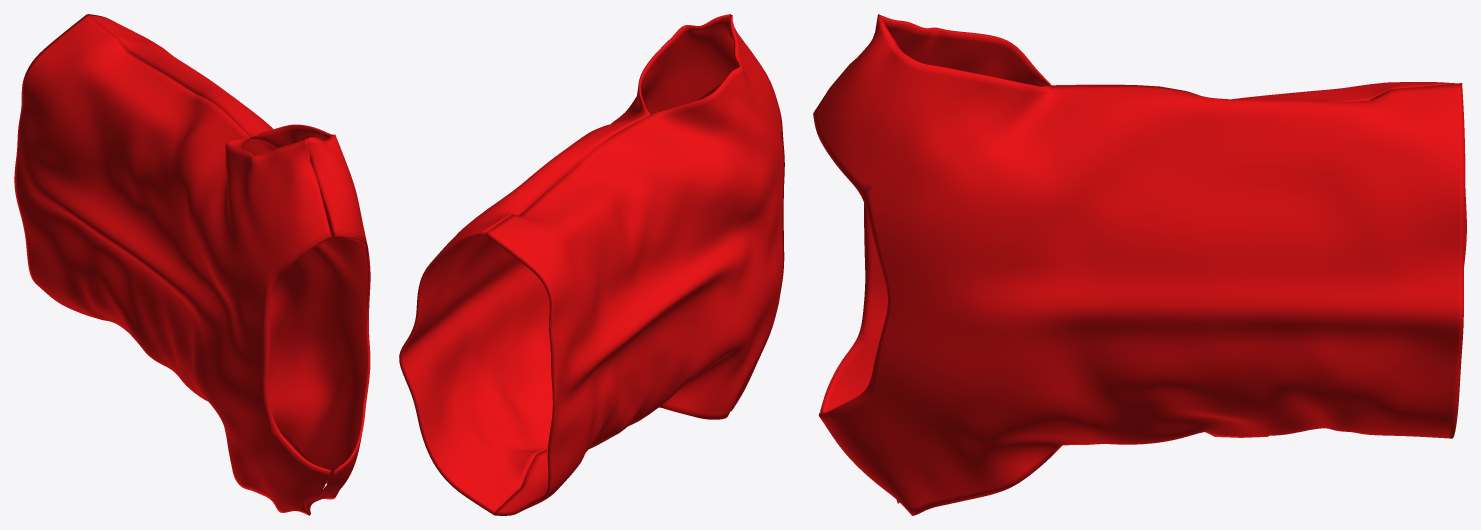
The model's file is en54CMboy66CM_TShirtModel.glb.
The picture shows the model from 3 angles, left to right: view 1: azimuth 30°, elevation 25°; view 2: azimuth 150°, elevation 25°; view 3: azimuth 270°, elevation 25°; orthographic projection. The views are drawn at different scales.
Visible parts, largest first — view 1: Plane; view 2: Plane; view 3: Plane.
Part boxes in pixels (box(x1,y1,x2,y2)): Plane: box(14, 14, 370, 515); Plane: box(399, 14, 784, 515); Plane: box(813, 14, 1466, 515).
Size of the model in its own units: 0.2471 by 0.5766 by 0.7053.
